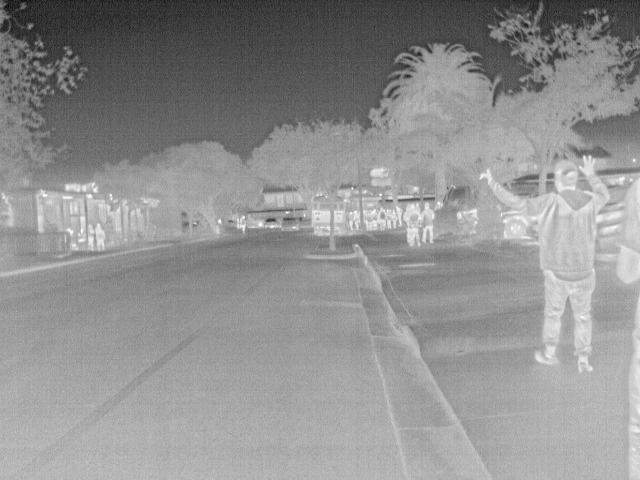car: (496, 208, 529, 238), (280, 214, 301, 234), (260, 216, 279, 228)
person: (482, 152, 609, 373), (614, 165, 639, 478), (403, 204, 421, 246), (421, 200, 436, 246), (93, 222, 108, 248), (62, 226, 78, 250), (373, 206, 387, 232), (234, 211, 248, 233), (348, 209, 361, 230), (73, 226, 86, 242)
